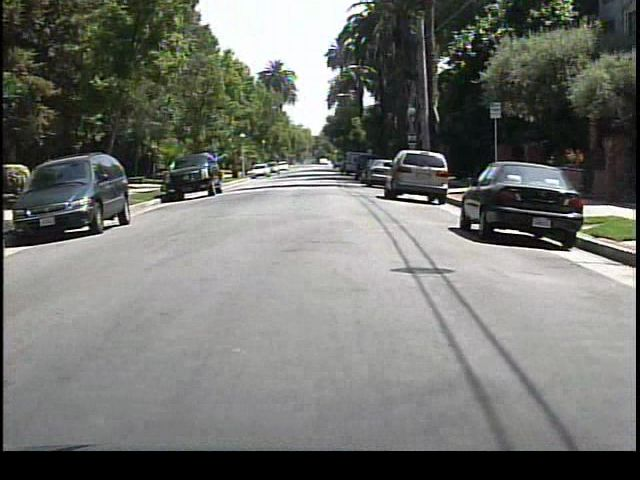car: (454, 160, 597, 253), (17, 153, 133, 230), (159, 152, 227, 201), (386, 150, 454, 199)
strada: (5, 245, 623, 447)
